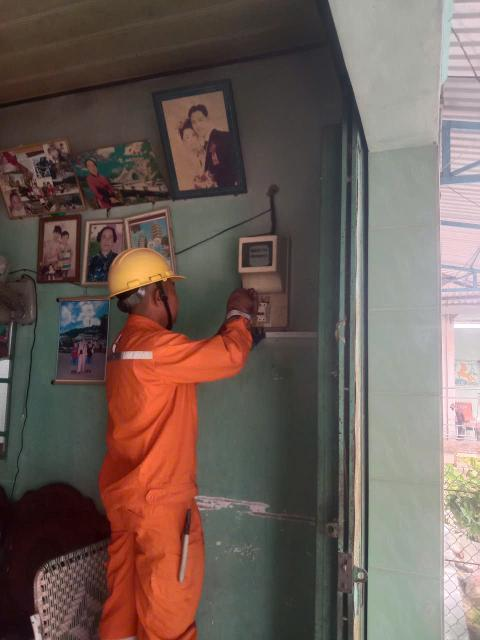gloves: (220, 282, 271, 335)
helmet: (95, 238, 197, 299)
